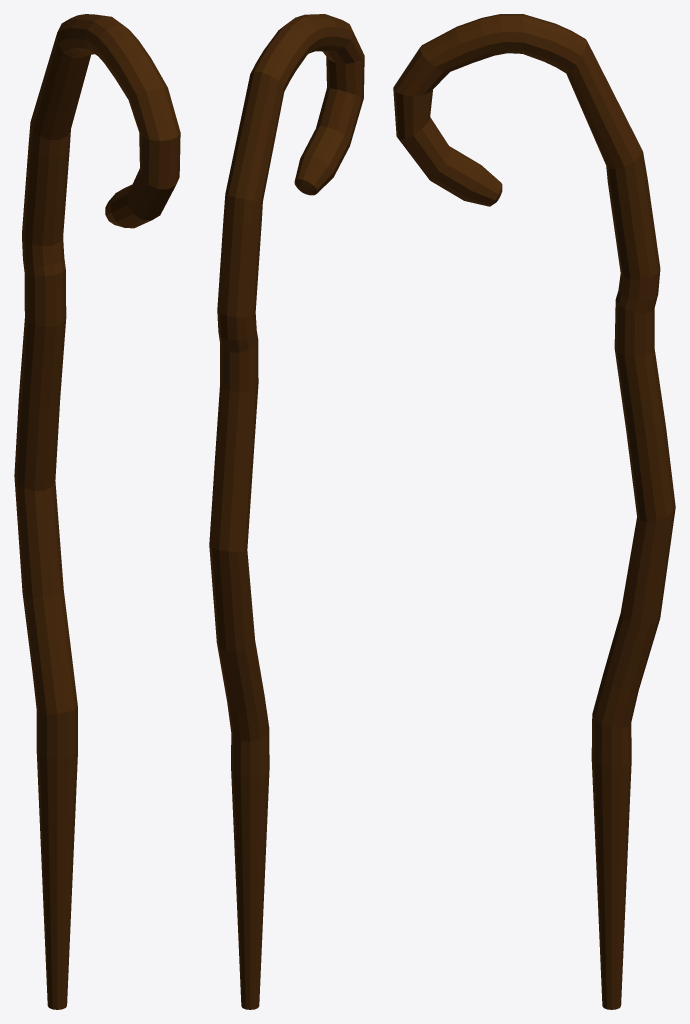
File: Staff.fbx
The picture shows the model from 3 angles, left to right: view 1: azimuth 30°, elevation 25°; view 2: azimuth 150°, elevation 25°; view 3: azimuth 270°, elevation 25°; orthographic projection. The views are drawn at different scales.
Parts seen in each view (by area): view 1: Cylinder; view 2: Cylinder; view 3: Cylinder.
Boxes of the visible parts, bbox=[...] form: Cylinder: bbox=[14, 14, 180, 1009]; Cylinder: bbox=[209, 14, 364, 1009]; Cylinder: bbox=[393, 14, 675, 1009].
Size of the model in its own units: 29.9 by 802 by 207.
